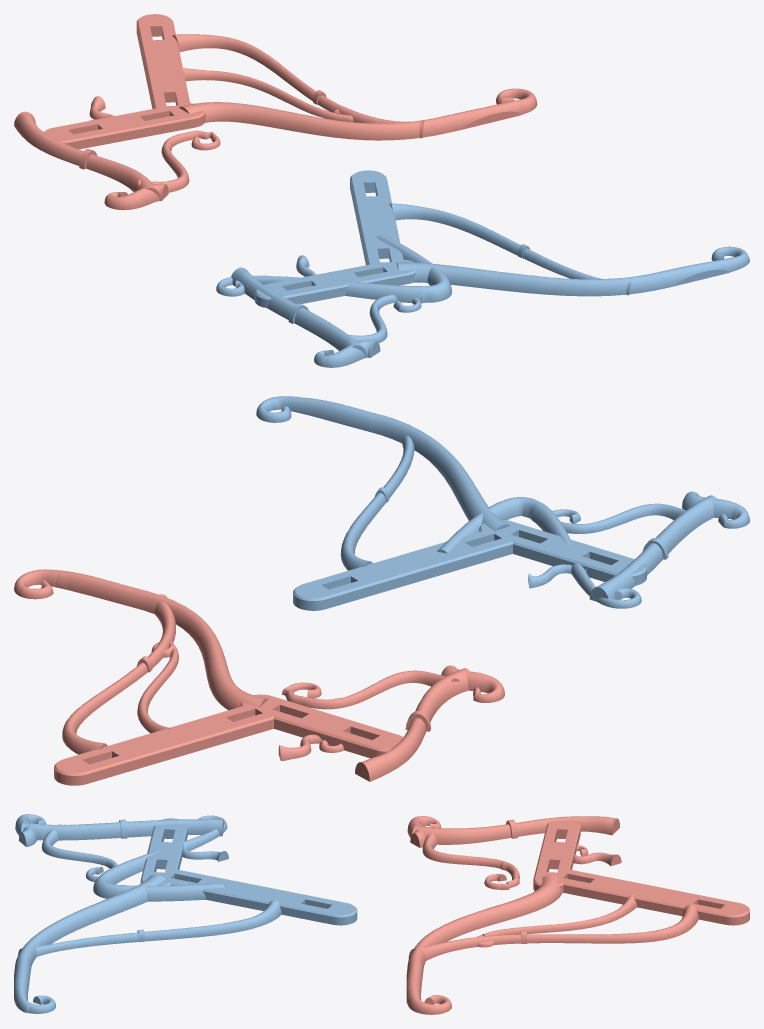
3 views of the same model, one above another, from view 1: azimuth 30°, elevation 25°; view 2: azimuth 150°, elevation 25°; view 3: azimuth 270°, elevation 25° (orthographic). The views are drawn at different scales.
Visible parts, largest first — view 1: fianco_b_coup_de_fouet, fianco_a_classica; view 2: fianco_b_coup_de_fouet, fianco_a_classica; view 3: fianco_b_coup_de_fouet, fianco_a_classica.
Part boxes in pixels (left/top/right/bottom): fianco_b_coup_de_fouet: left=14, top=14, right=537, bottom=210; fianco_a_classica: left=216, top=170, right=749, bottom=367; fianco_b_coup_de_fouet: left=14, top=569, right=504, bottom=785; fianco_a_classica: left=256, top=396, right=749, bottom=610; fianco_b_coup_de_fouet: left=406, top=816, right=749, bottom=1014; fianco_a_classica: left=14, top=814, right=357, bottom=1013.
Size of the model in its own units: 141 by 4.7 by 225.
